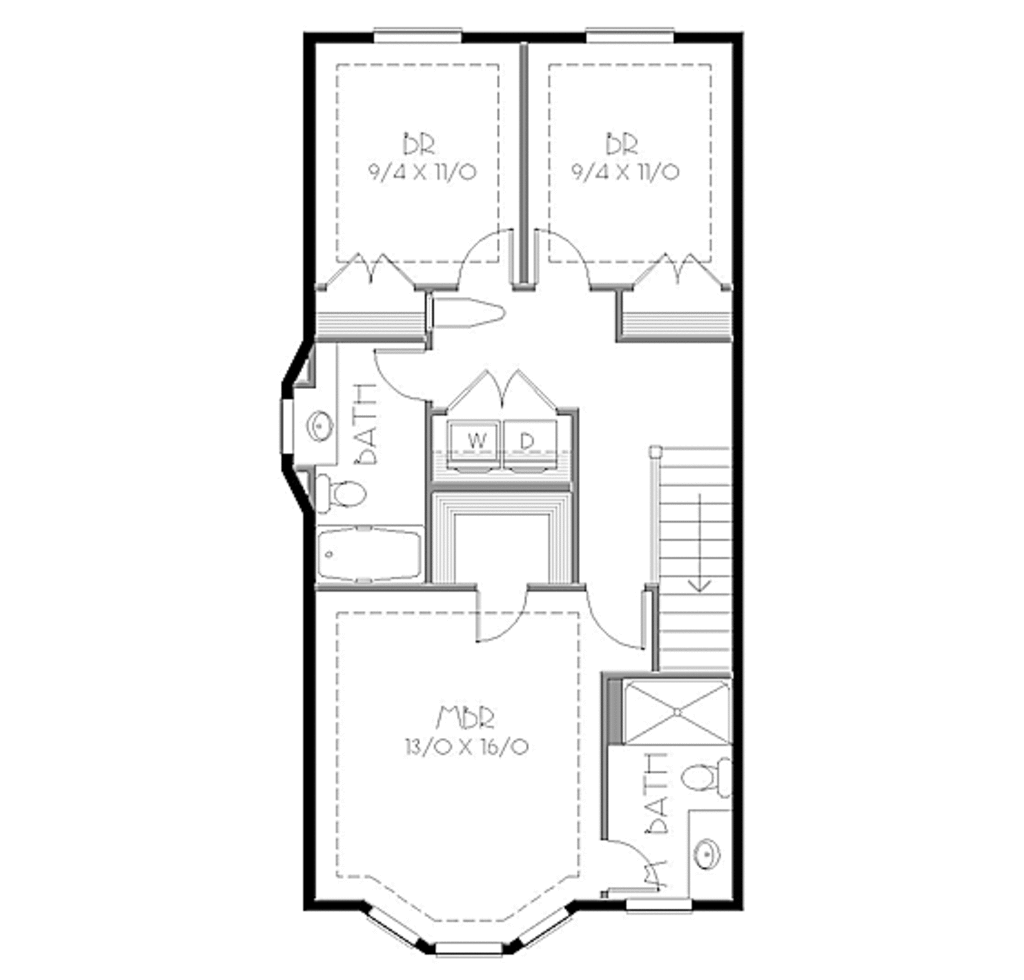door: (433, 363, 562, 413), (583, 825, 662, 899), (321, 238, 421, 296), (359, 343, 442, 407), (583, 584, 657, 651), (447, 205, 506, 288), (635, 237, 726, 288), (529, 225, 591, 291), (462, 590, 530, 648)
large_sink: (300, 466, 373, 514), (676, 752, 733, 807)
small_sink: (298, 382, 350, 467), (691, 816, 732, 893)
stairs: (639, 435, 738, 676)
tub: (313, 517, 426, 588)
window: (363, 902, 577, 949), (365, 20, 460, 49), (583, 22, 685, 49)
